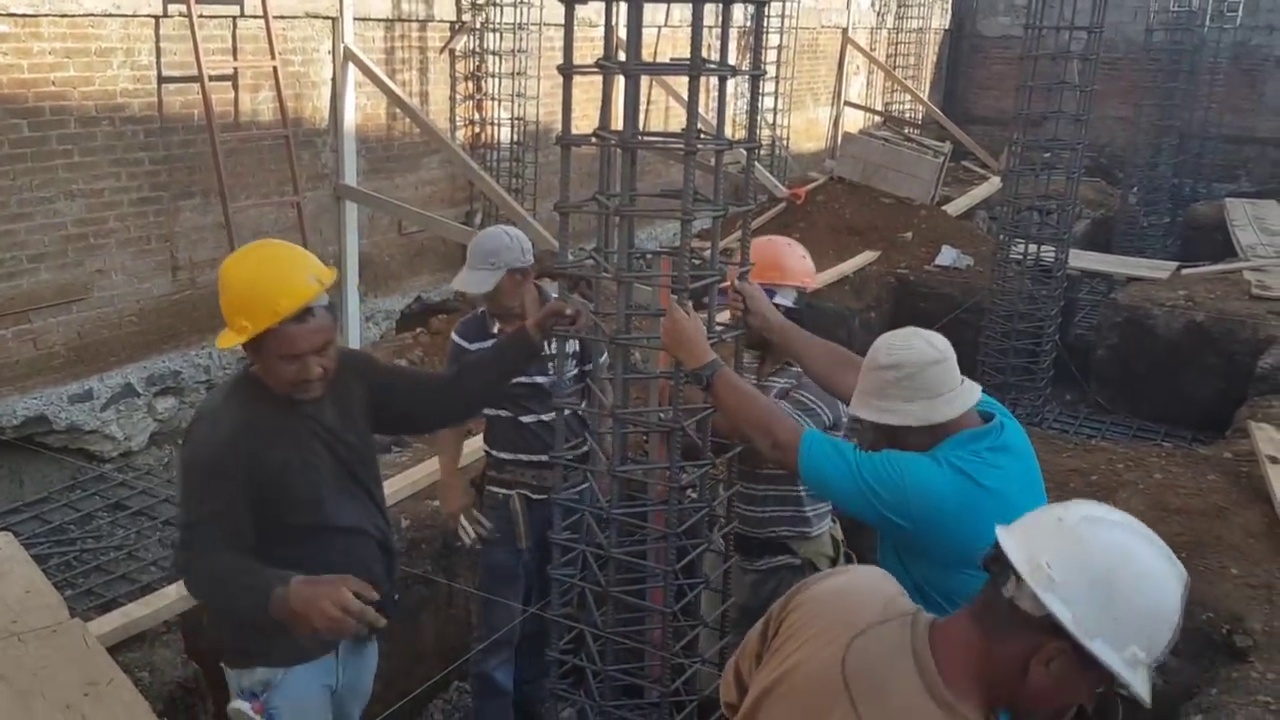helmet: (1005, 495, 1191, 703), (209, 236, 336, 350), (723, 236, 820, 292)
helmet-off: (841, 323, 989, 467), (455, 226, 550, 324)
helmet-on: (920, 493, 1195, 715), (204, 233, 348, 413), (721, 236, 821, 360)
person: (179, 219, 484, 713), (657, 280, 1050, 609), (712, 485, 1201, 713), (430, 227, 617, 720), (700, 232, 849, 644)
